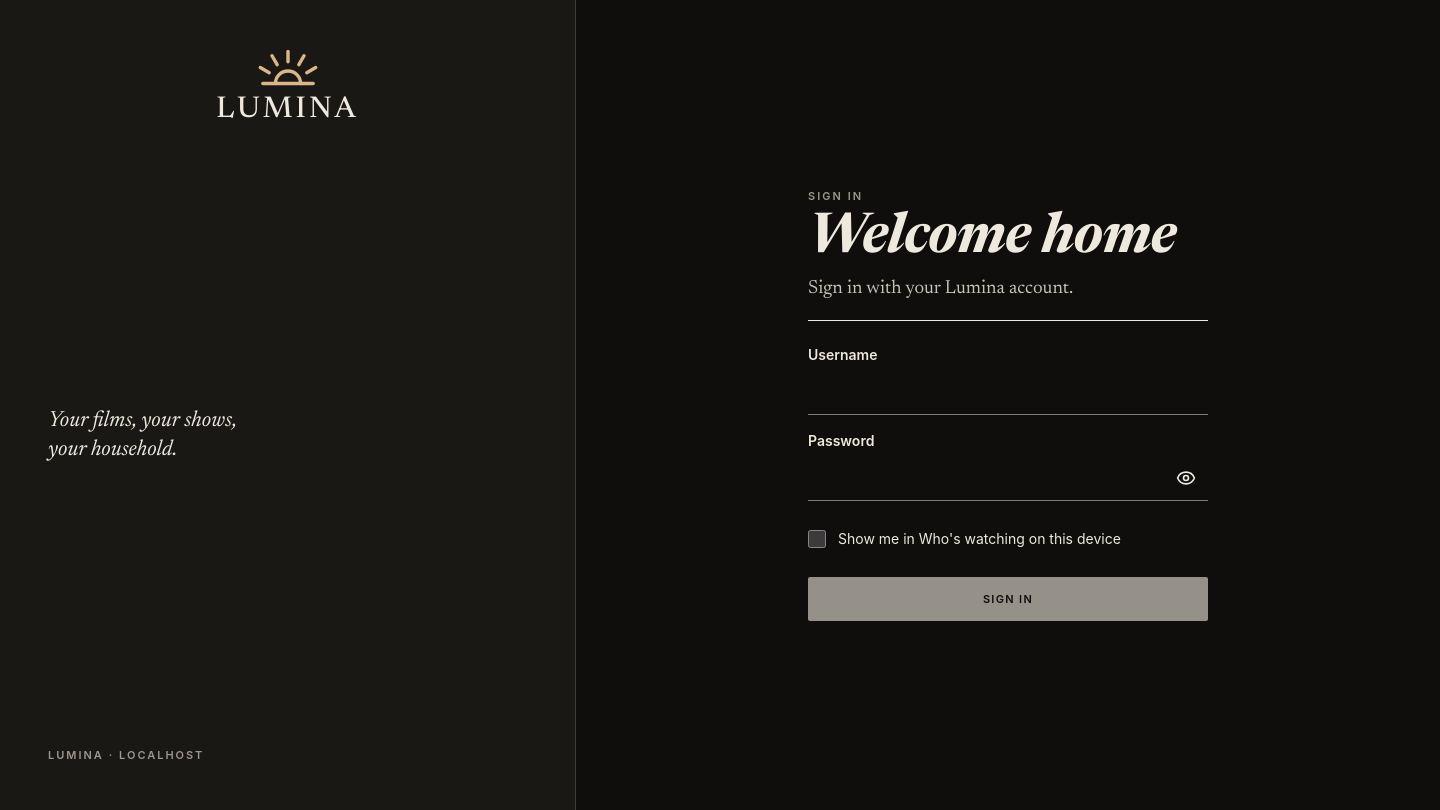
Test: tells a rate-limited member to wait a minute
Type "sam" into the field labelled "Username" at {"x": 1008, "y": 393}, box x1=808 y1=371 x2=1208 y2=415
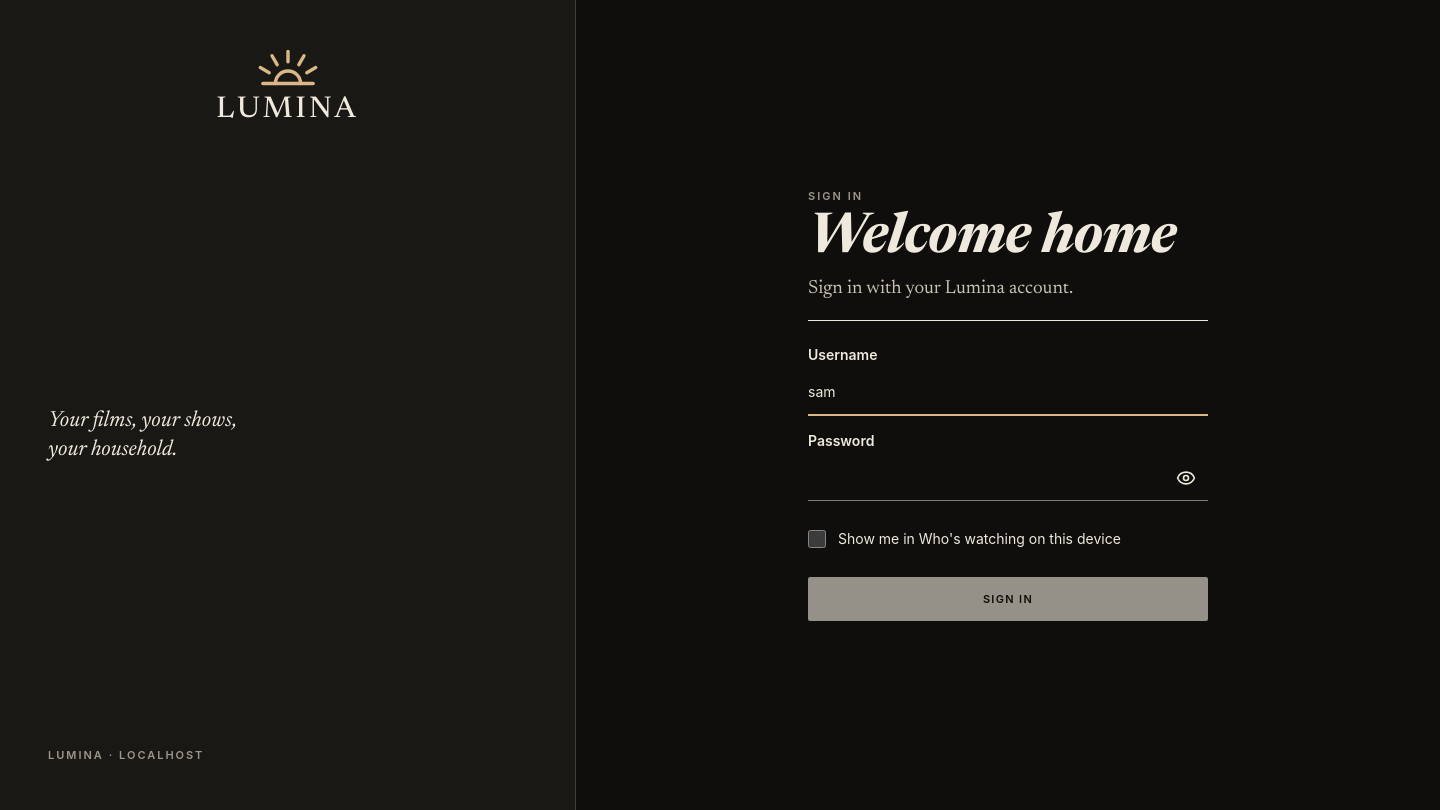
Type "synthetic-passphrase" into the password field labelled "Password" at {"x": 1008, "y": 479}, box x1=808 y1=457 x2=1208 y2=501
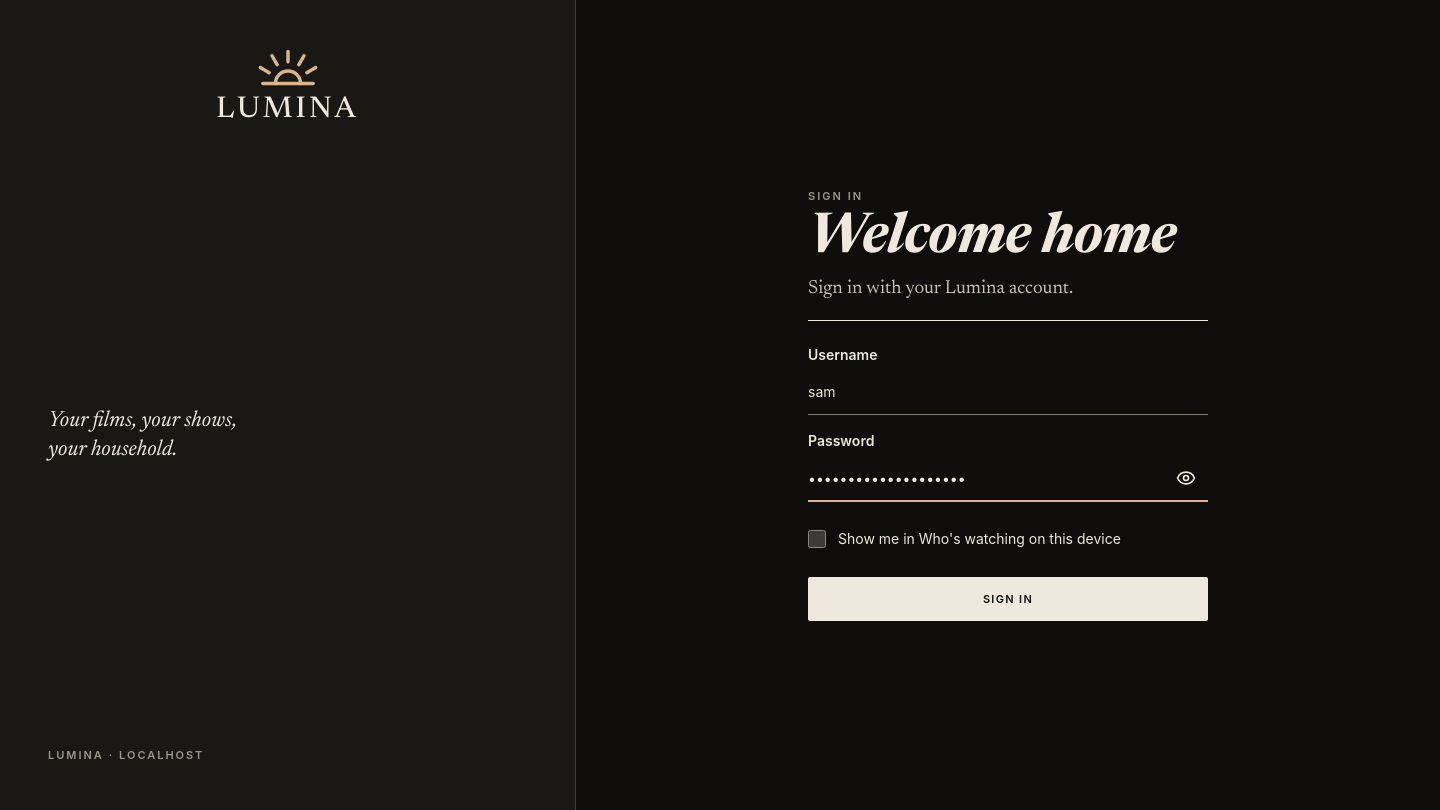
Click the button "Sign in" at {"x": 1008, "y": 599}, box x1=808 y1=577 x2=1208 y2=621
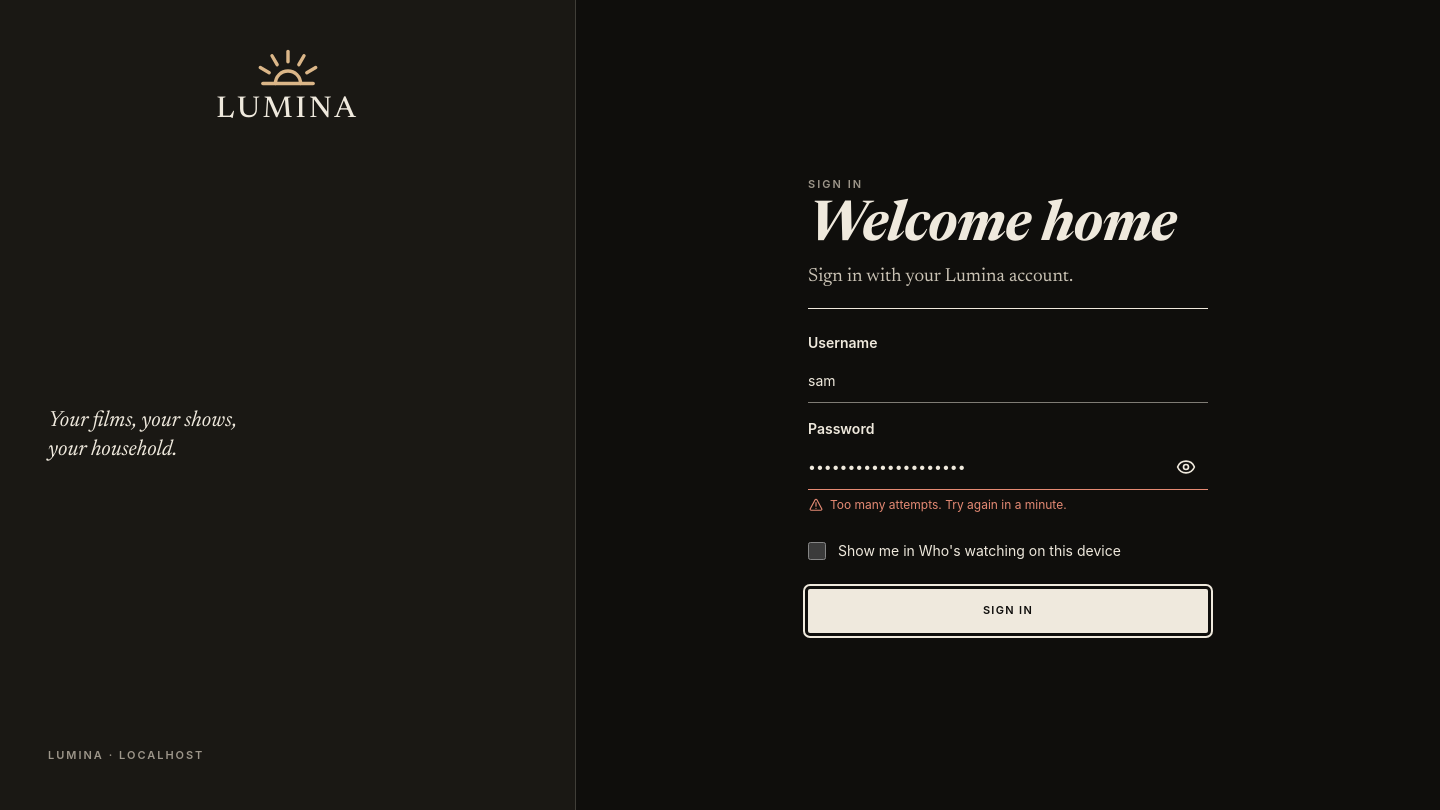
Result: the text "Too many attempts. Try again in a minute." is shown at x1=808 y1=496 x2=1067 y2=512
